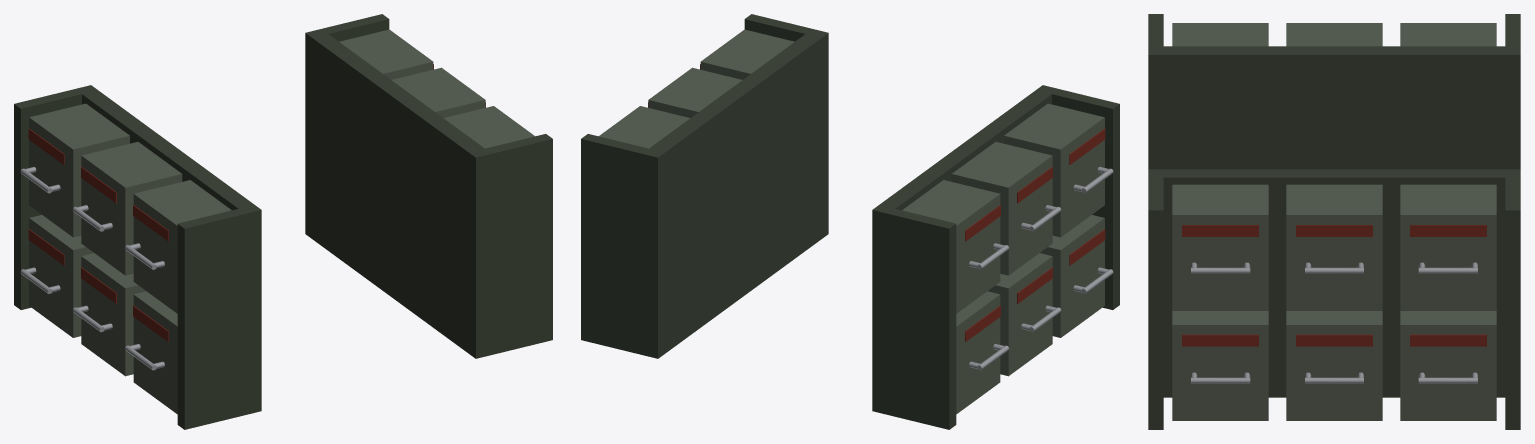
File: s150_cells.obj
3 renders of one model, left to right at view 1: azimuth 30°, elevation 25°; view 2: azimuth 150°, elevation 25°; view 3: azimuth 270°, elevation 25°, orthographic. The views are drawn at different scales.
Parts seen in each view (by area): view 1: s150_cells; view 2: s150_cells; view 3: s150_cells.
Part boxes in pixels (bbox=[...]): s150_cells: bbox=[14, 14, 552, 429]; s150_cells: bbox=[581, 14, 1119, 429]; s150_cells: bbox=[1148, 14, 1520, 429].
Bounding box in the file's own units: 1.85 × 0.9006 × 1.38.
